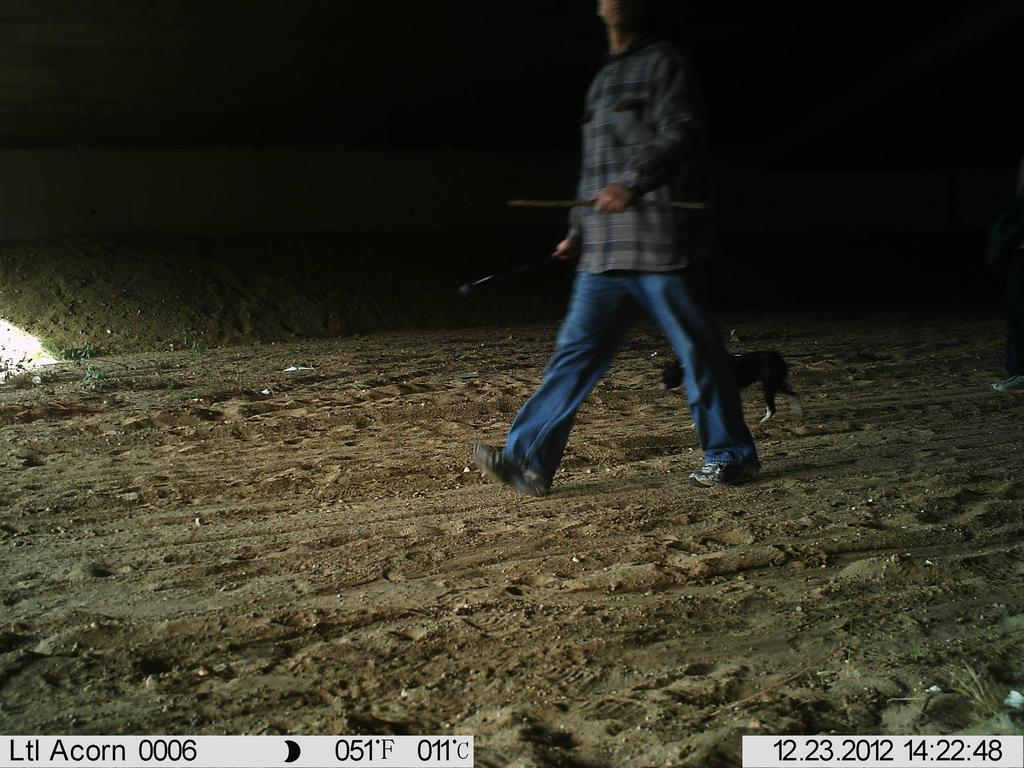dog: (645, 337, 818, 434)
